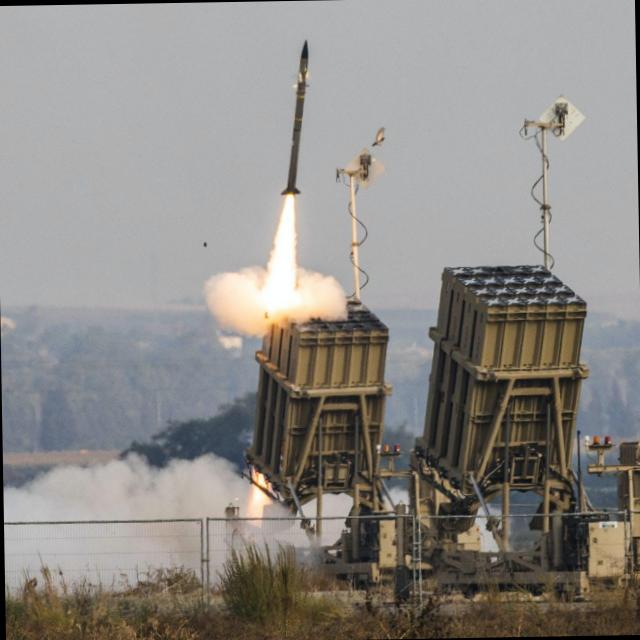rocket: (258, 29, 324, 286)
